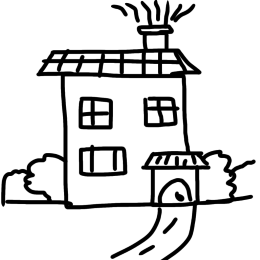closed_window: (73, 141, 130, 189), (71, 90, 114, 134), (139, 88, 183, 131)
door: (139, 147, 203, 208)
roof: (31, 45, 205, 82)
smoking_chimney: (108, 0, 200, 59)
wall: (57, 67, 202, 215)
